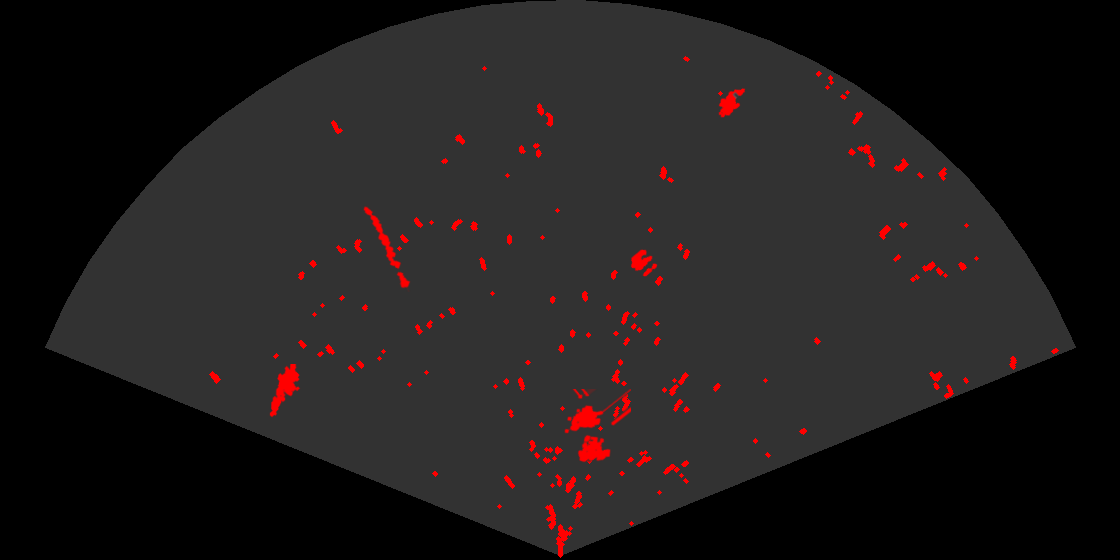AUV: (717, 87, 747, 119)
ball: (629, 248, 659, 278)
cage: (563, 389, 631, 464)
chain: (362, 205, 412, 292)
frogman: (268, 364, 302, 419)
